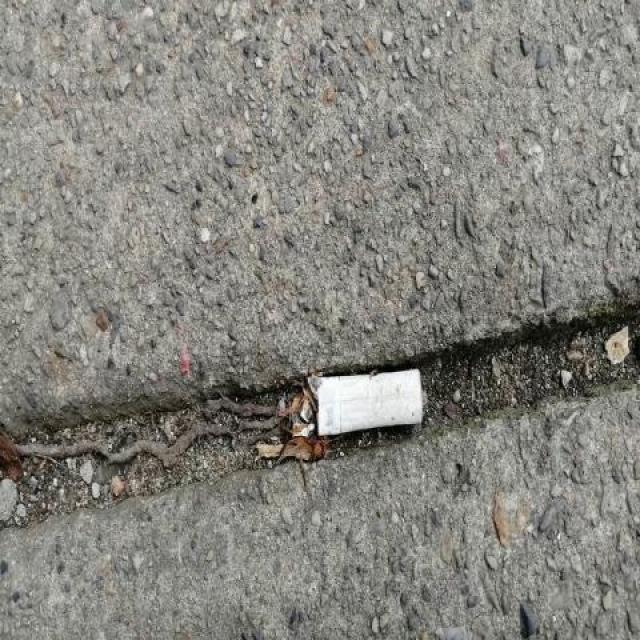non-organic waste: (309, 363, 431, 442)
